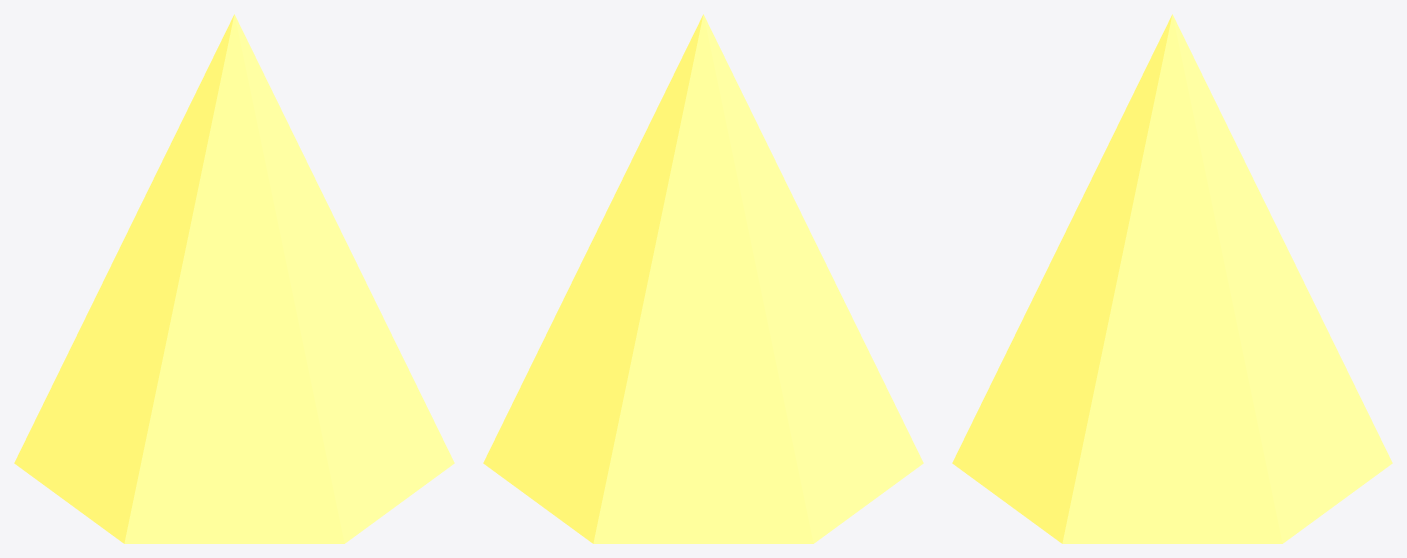
Rendered from ship.glb.
3 views of the same model, side by side, from view 1: azimuth 30°, elevation 25°; view 2: azimuth 150°, elevation 25°; view 3: azimuth 270°, elevation 25° (orthographic).
Visible parts, largest first — view 1: Ship; view 2: Ship; view 3: Ship.
Part boxes in pixels (x1,y1,x2,y2): Ship: (14, 14, 454, 543); Ship: (483, 14, 923, 543); Ship: (952, 14, 1392, 543).
Bounding box in the file's own units: 1.39 × 1.8 × 1.6.
